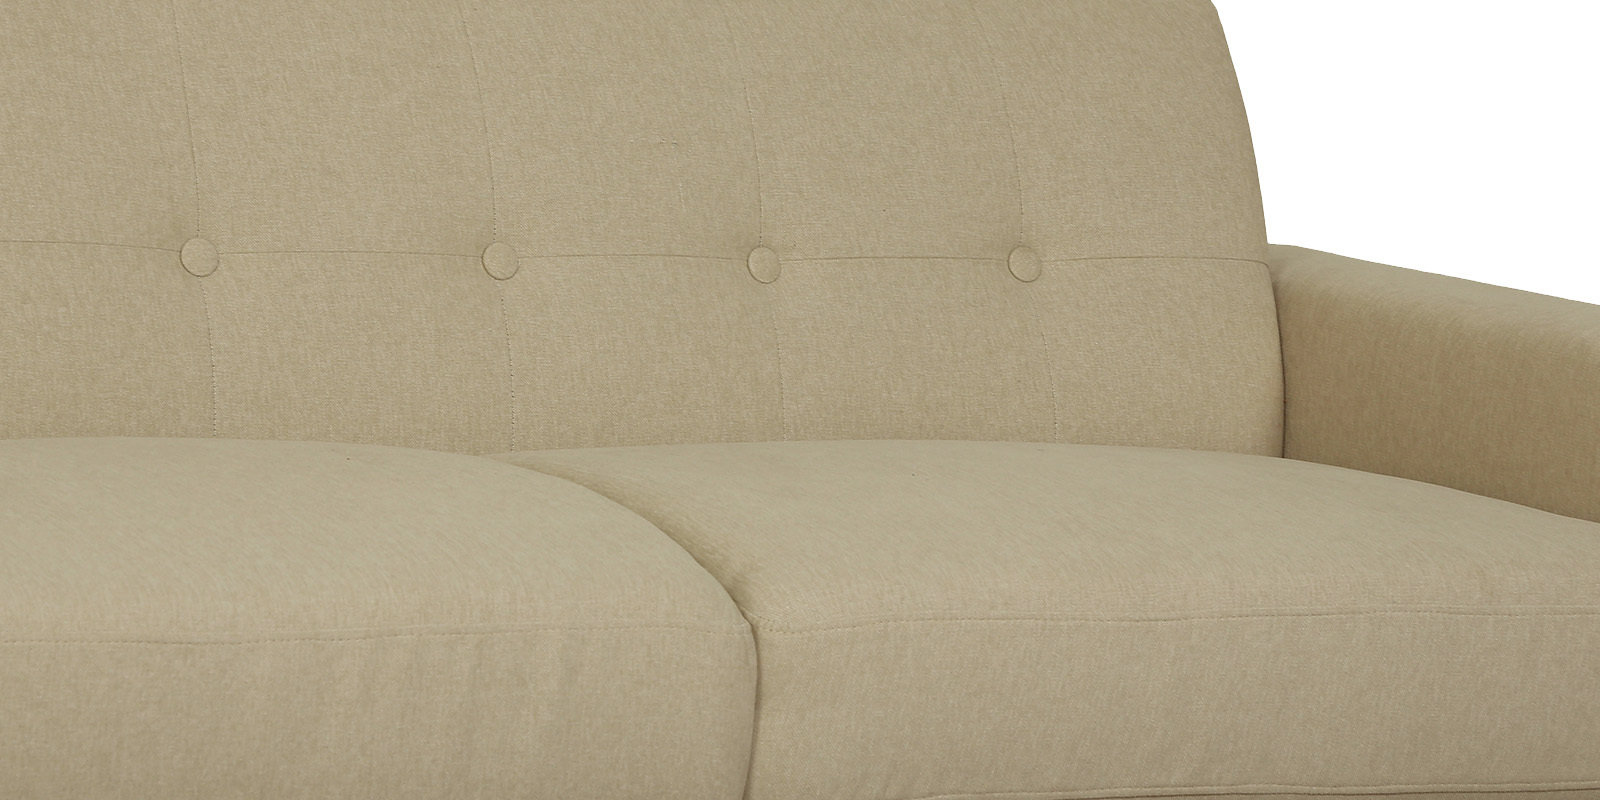Cordoba Three Seater Sofa in Beige Colour by CasaCraft: (92, 57, 1600, 663)
